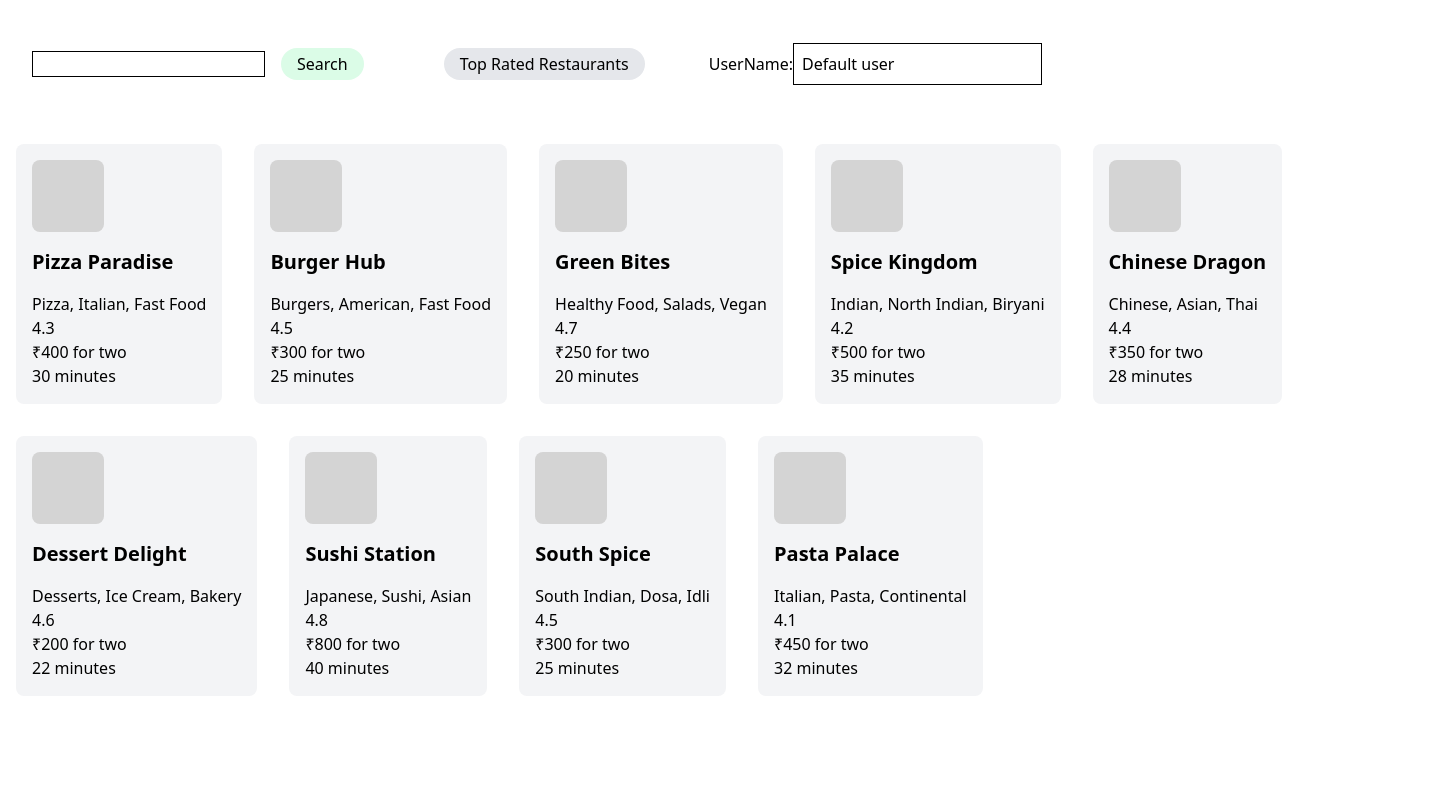
Test: Should search Res List for Pizza test input
In the field with test id "searchInput": [148, 64] box [32,51,265,77], type "pizza"
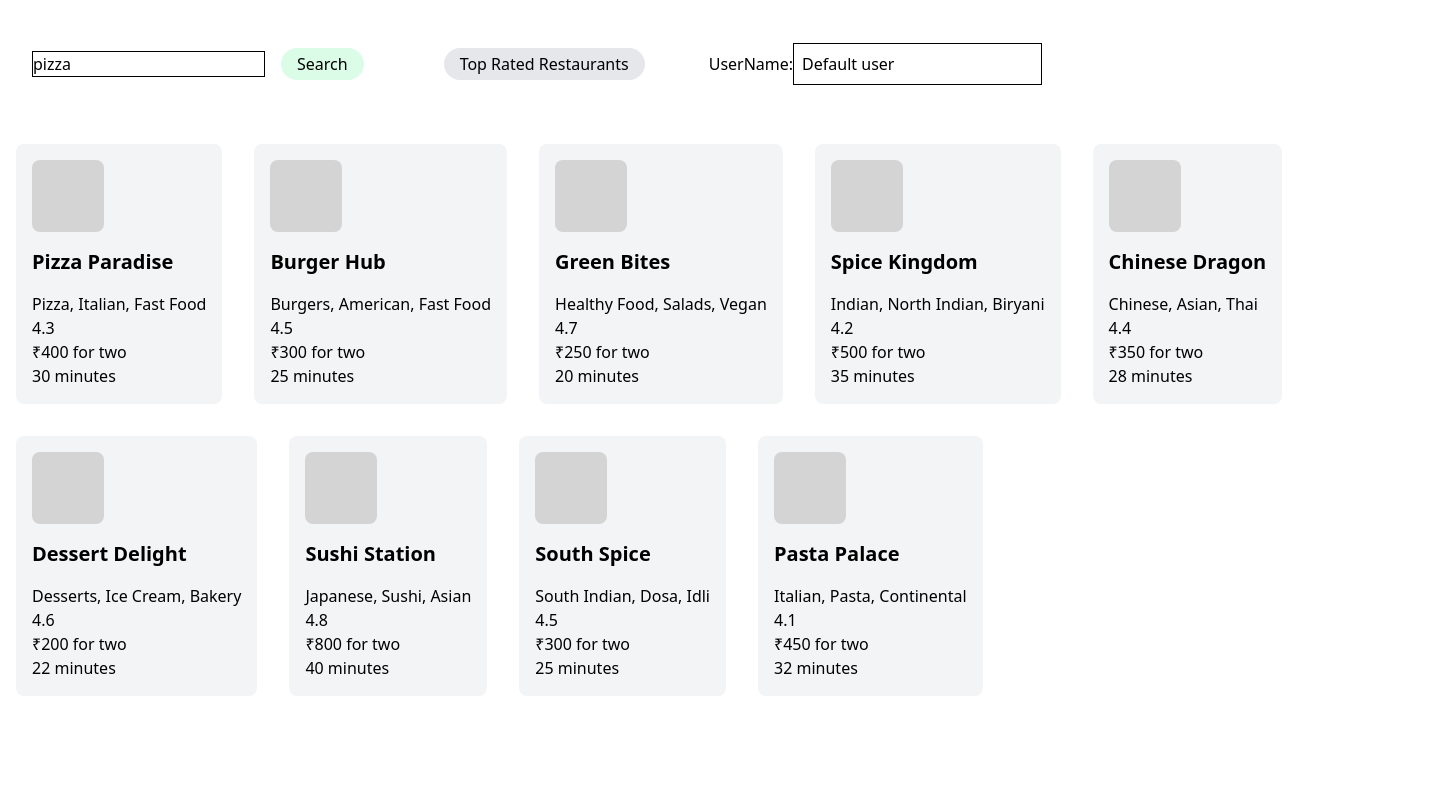
Click the button "Search": [322, 64] box [281,48,364,80]
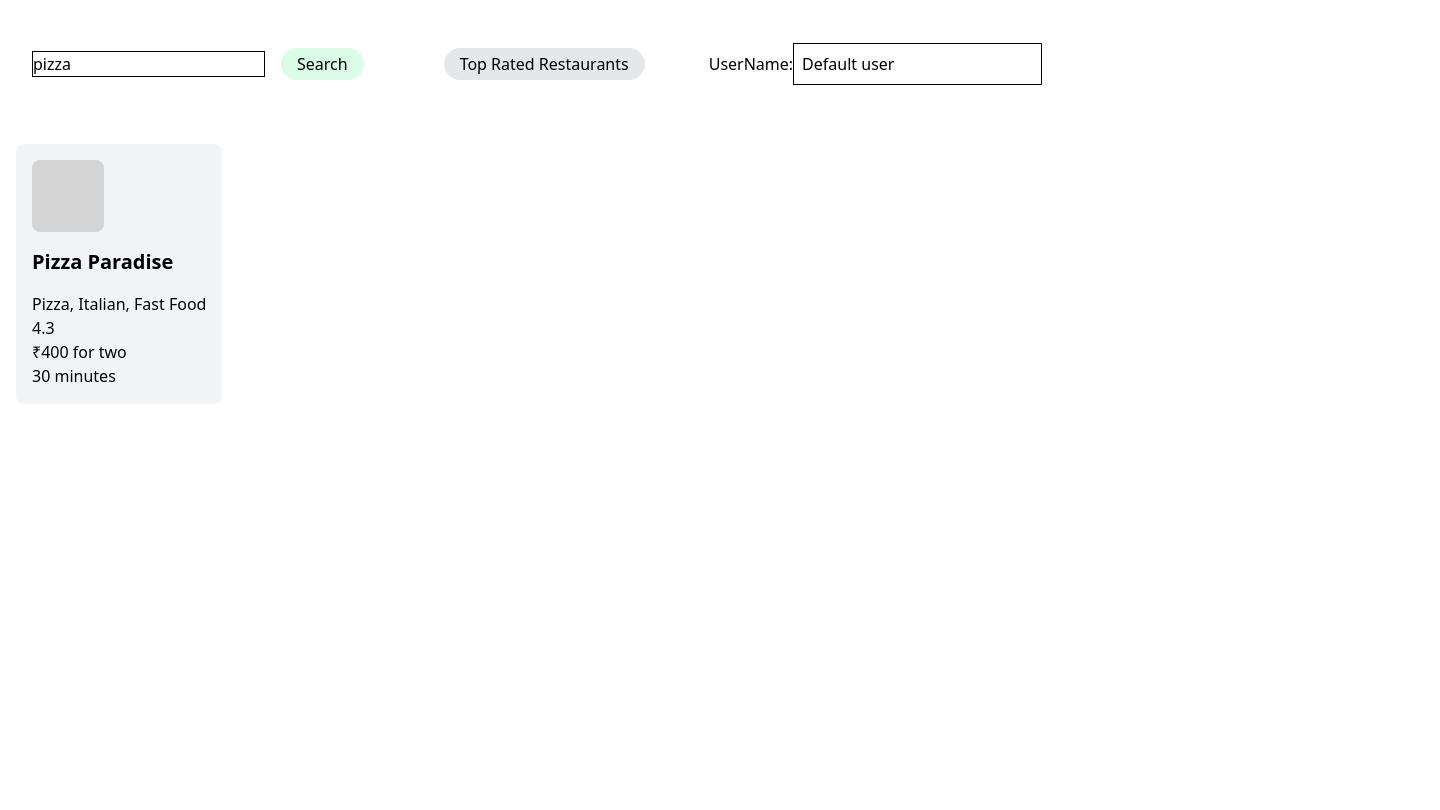
Check: the number of elements with test id "resCard" is 1, box [16,144,222,404]
